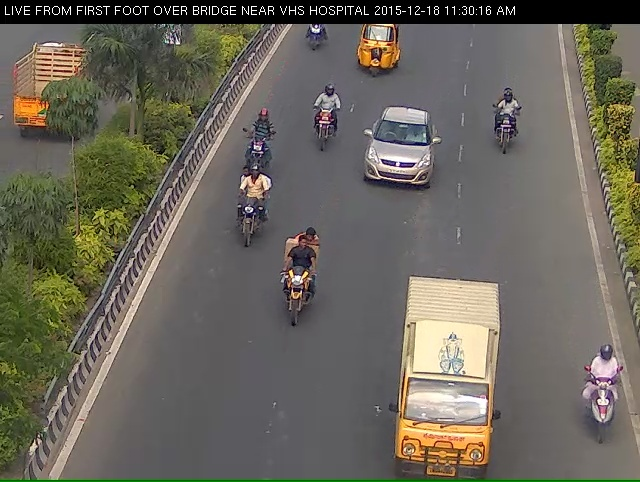Auto: (390, 300, 501, 481), (350, 20, 409, 83)
Car: (347, 116, 441, 212)
Person: (580, 367, 634, 480), (268, 250, 314, 351), (299, 82, 347, 175), (486, 90, 525, 174), (233, 182, 259, 267), (237, 127, 268, 183)
